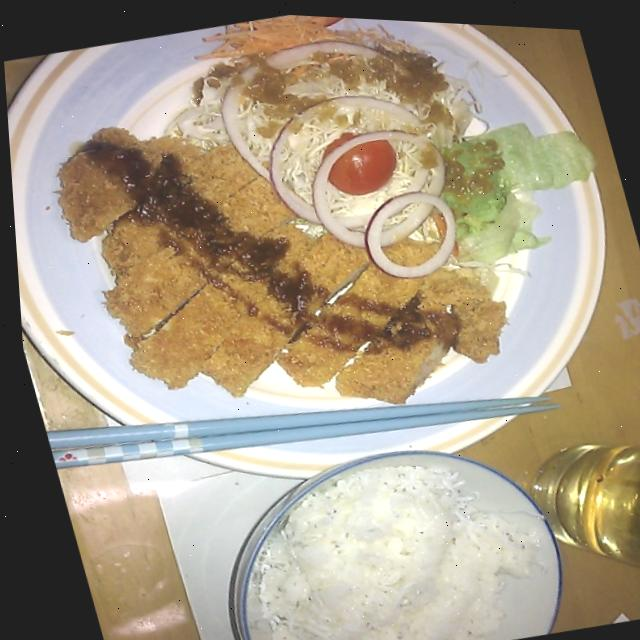米饭主食: (186, 411, 586, 640)
